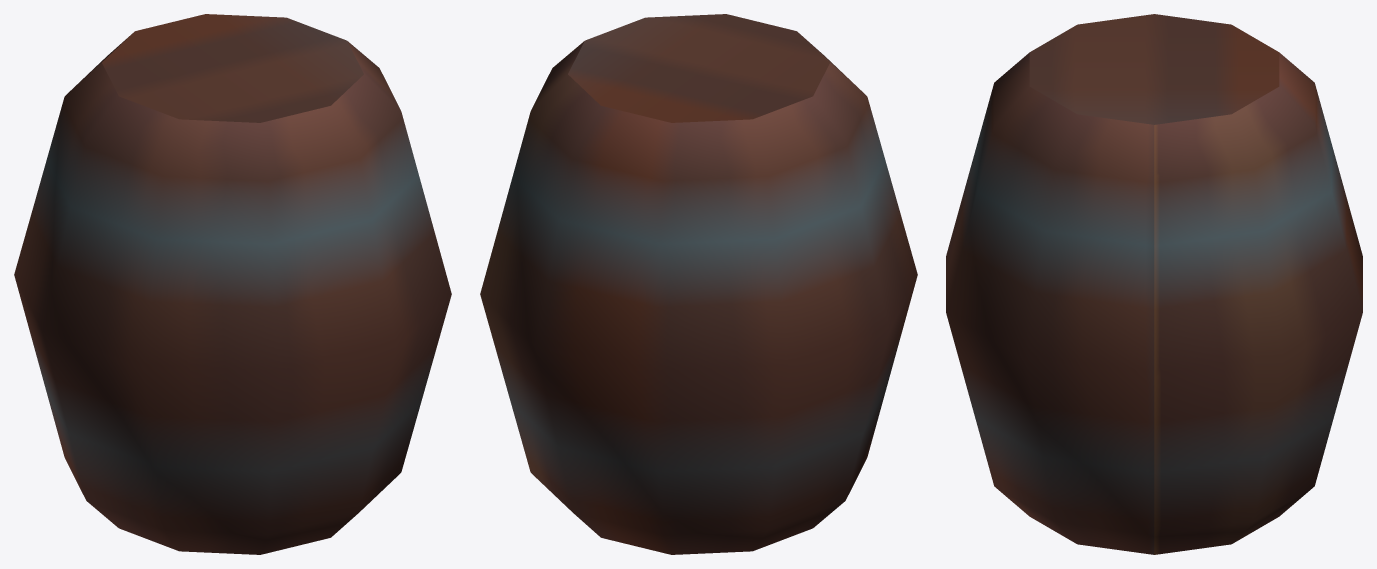
The model's file is barrel.fbx.
3 views of the same model, side by side, from view 1: azimuth 30°, elevation 25°; view 2: azimuth 150°, elevation 25°; view 3: azimuth 270°, elevation 25° (orthographic).
Visible parts, largest first — view 1: barrel; view 2: barrel; view 3: barrel.
Boxes of the visible parts, box(x1,y1,x2,y2) form: barrel: box(14, 14, 451, 554); barrel: box(480, 14, 917, 554); barrel: box(946, 14, 1362, 554).
Bounding box in the file's own units: 116 × 126 × 111.
